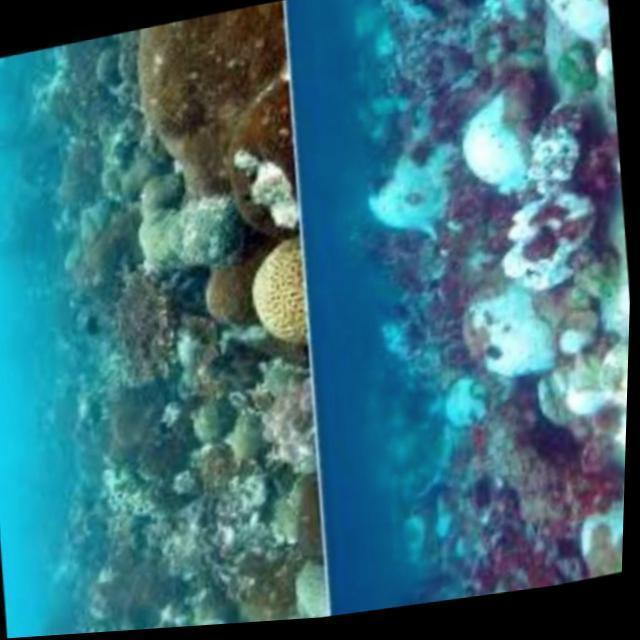Dead Coral: (15, 234, 317, 639), (140, 0, 304, 206)
